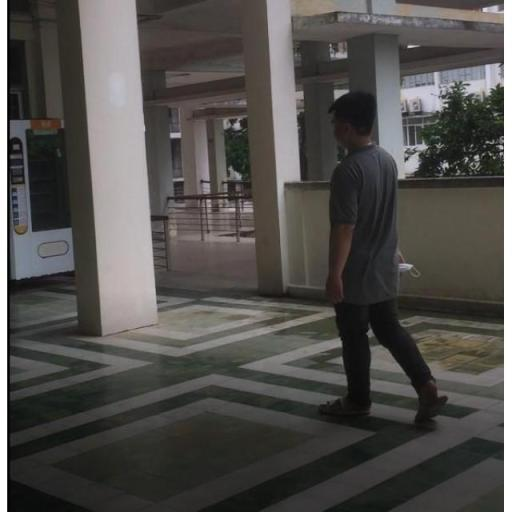Running: (314, 76, 451, 427)
